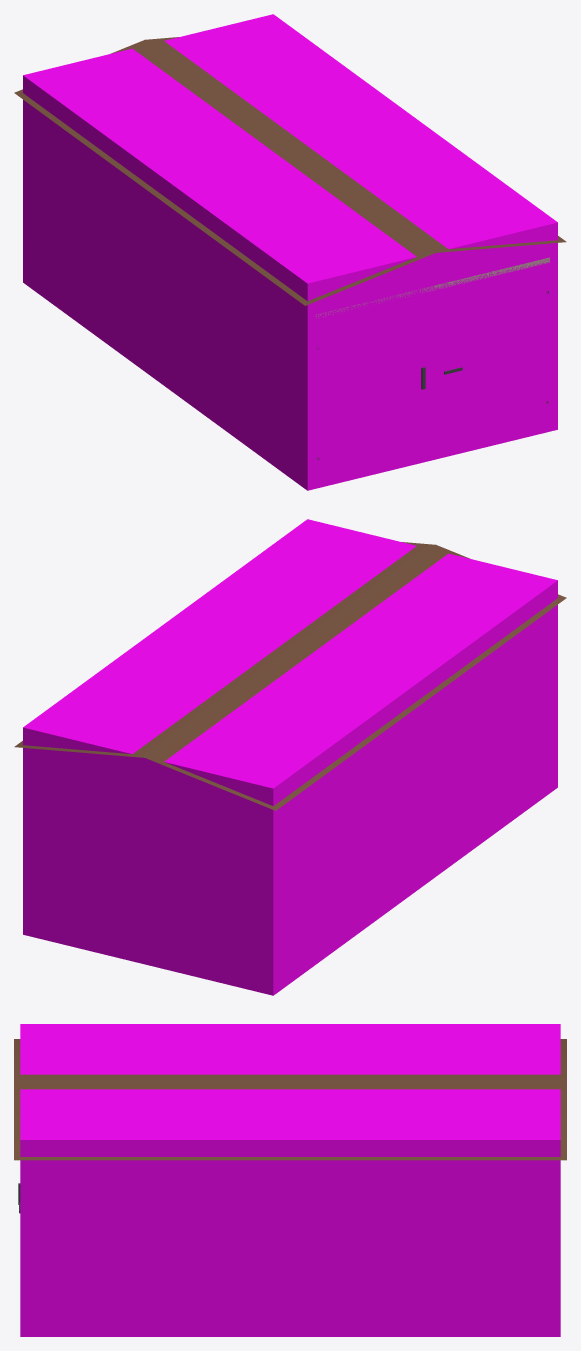
File: EN_Yard_Garage_Beige.fbx
3 views of the same model, one above another, from view 1: azimuth 30°, elevation 25°; view 2: azimuth 150°, elevation 25°; view 3: azimuth 270°, elevation 25° (orthographic). The views are drawn at different scales.
Parts seen in each view (by area): view 1: COL_Body, EN_Yard_Garage_Beige_Mesh; view 2: COL_Body, EN_Yard_Garage_Beige_Mesh; view 3: COL_Body, EN_Yard_Garage_Beige_Mesh.
Boxes of the visible parts, x1,y1,x2,y2 form: COL_Body: (23,14,557,490); EN_Yard_Garage_Beige_Mesh: (14,37,566,459); COL_Body: (23,519,557,995); EN_Yard_Garage_Beige_Mesh: (14,542,566,810); COL_Body: (20,1024,560,1336); EN_Yard_Garage_Beige_Mesh: (14,1039,566,1213).
Size of the model in its own units: 3.24 by 2.48 by 6.24.
